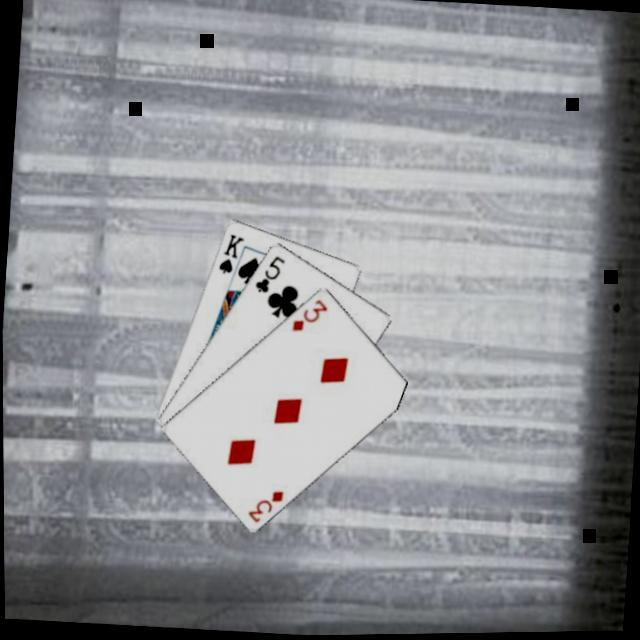3D: (288, 293, 332, 337), (243, 484, 287, 528)
5C: (250, 250, 289, 296)
KS: (214, 228, 247, 276)
